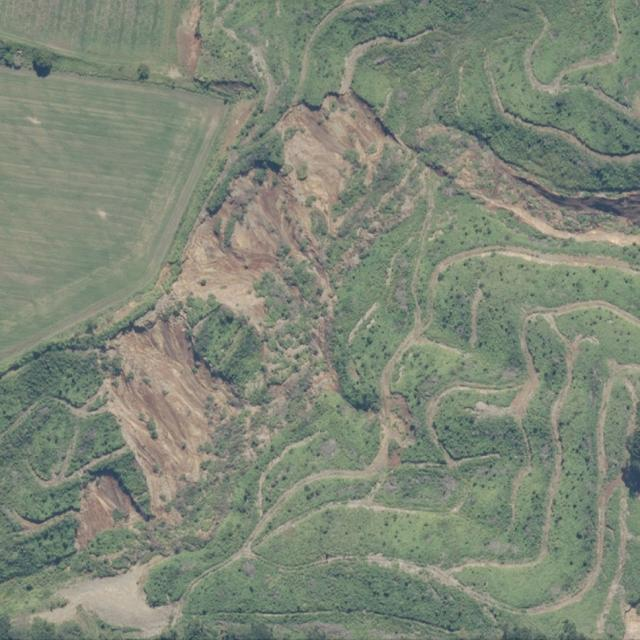landslide: (102, 170, 290, 525), (275, 93, 395, 180), (73, 475, 141, 552)
